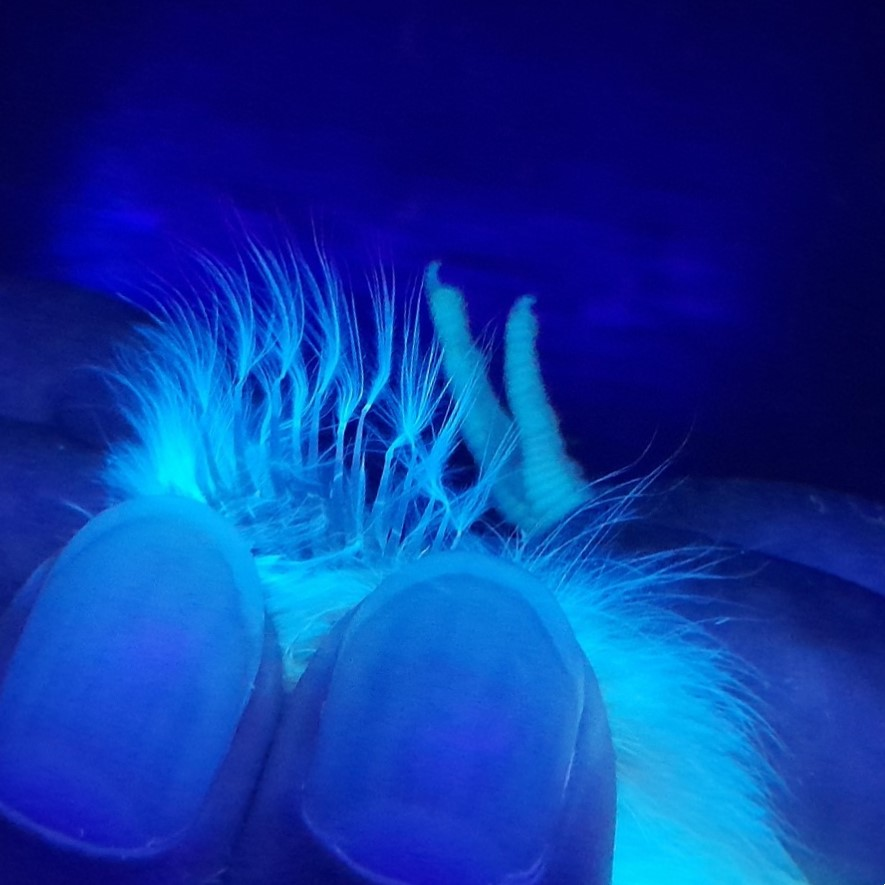male: (186, 358, 463, 582)
